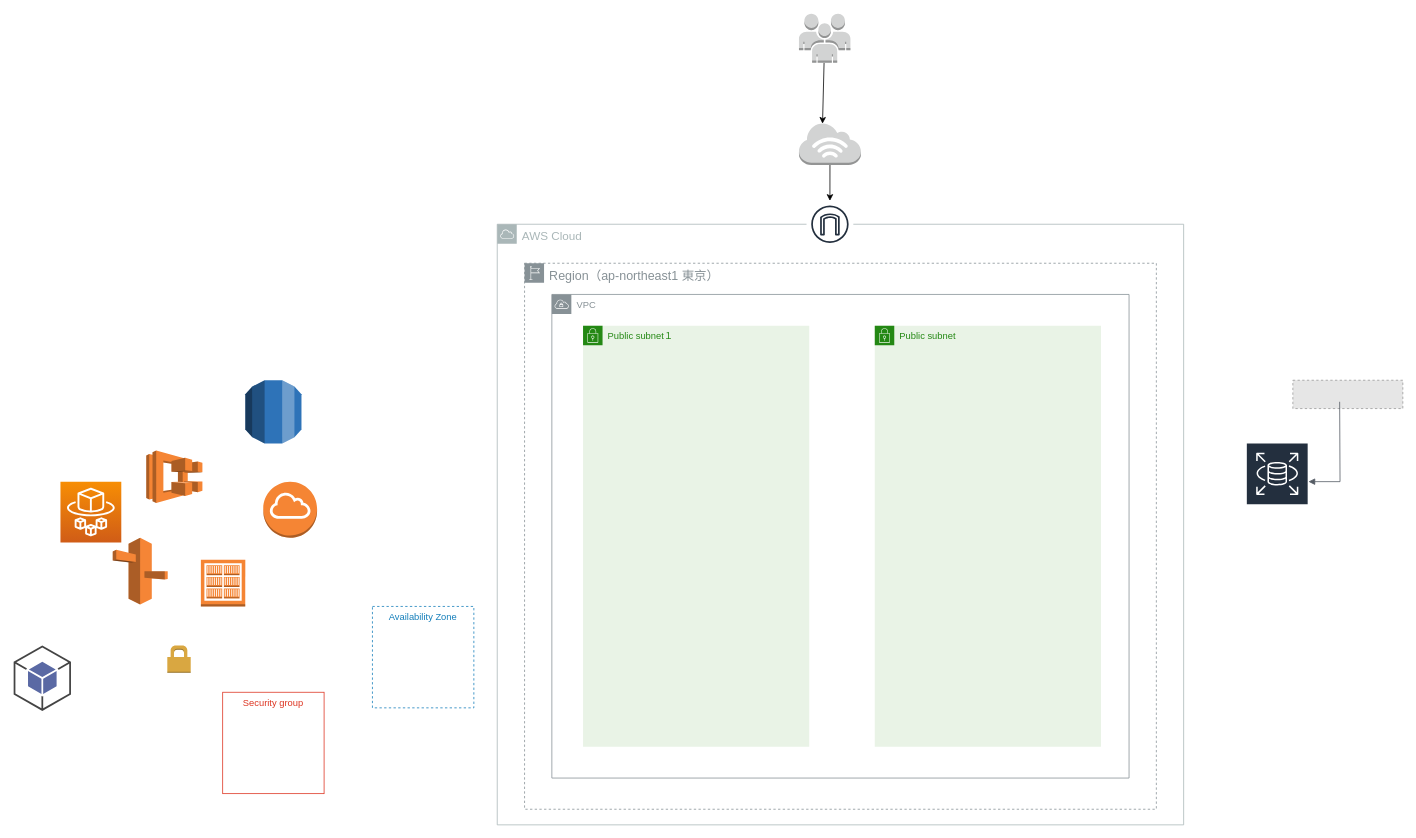
Some shapes in this 1416 by 838 pixel diagram are drawn without their labels. Grey dashed boxes stand in for pictures. The centre of each missing label's shape, as x and y in pixels:
"Amazon RDS" belongs at (1276,481).
"Internet gateway" belongs at (829,224).
